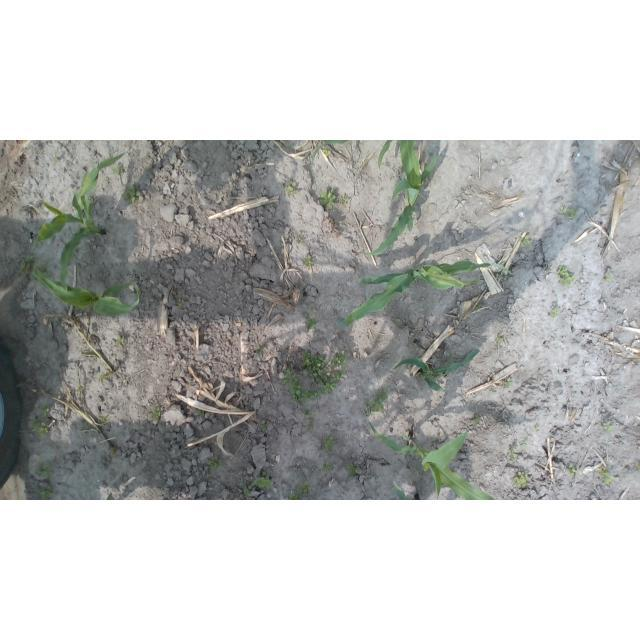Maize: (34, 153, 139, 292), (331, 259, 513, 328), (367, 421, 497, 500), (358, 140, 440, 257), (31, 272, 140, 319), (387, 350, 481, 394), (311, 140, 350, 162), (391, 481, 422, 500), (376, 140, 394, 168)
Weeds: (283, 350, 348, 404), (21, 256, 52, 280), (366, 389, 388, 416), (597, 466, 620, 485), (557, 267, 575, 288), (124, 184, 143, 202), (320, 189, 337, 209), (207, 456, 226, 473), (513, 472, 532, 489), (253, 472, 273, 488), (32, 419, 48, 437), (303, 410, 316, 432), (36, 486, 55, 500), (560, 207, 577, 221), (36, 465, 52, 479), (285, 181, 299, 195), (306, 317, 319, 330), (303, 256, 316, 269), (322, 436, 334, 450), (566, 464, 578, 477), (286, 492, 303, 501), (299, 481, 311, 493), (602, 422, 614, 434), (152, 404, 161, 419), (549, 306, 559, 318), (339, 196, 350, 206), (520, 235, 531, 245), (508, 448, 518, 459), (348, 464, 357, 476), (114, 164, 124, 174), (117, 335, 126, 346), (41, 407, 50, 418), (98, 415, 109, 424), (505, 376, 513, 388), (520, 437, 529, 447), (75, 384, 86, 392), (322, 463, 331, 472), (604, 273, 613, 281), (495, 273, 503, 281), (243, 488, 250, 497), (199, 410, 206, 419), (261, 421, 268, 429), (323, 150, 331, 157), (476, 304, 484, 311), (473, 418, 481, 425), (257, 346, 264, 354), (296, 237, 303, 243), (497, 337, 504, 343), (177, 301, 183, 307), (535, 424, 540, 431)
